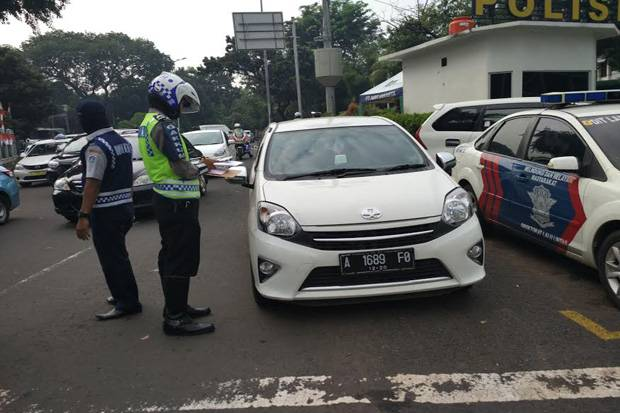plate: (340, 251, 414, 273)
